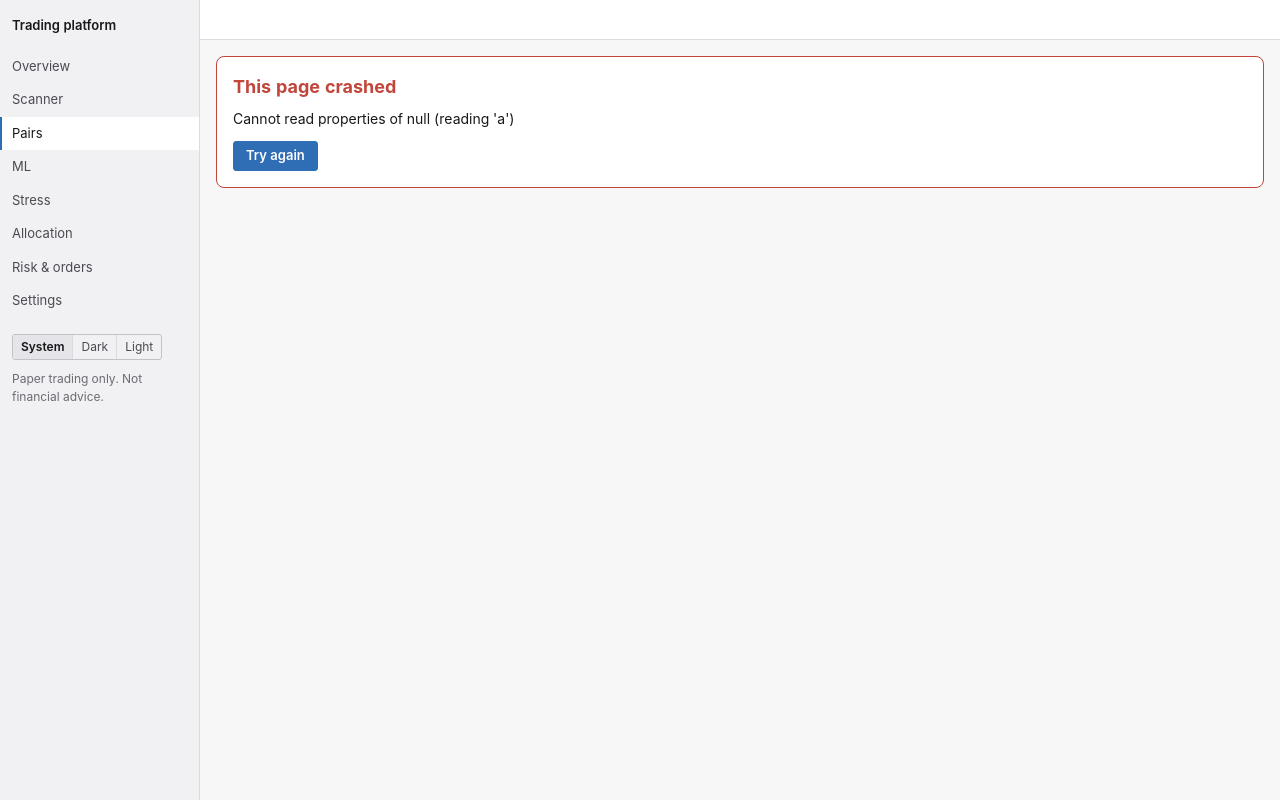
Scenario: ErrorBoundary › keeps the sidebar working when a page throws
Check: the heading "This page crashed" is shown, box [233,76,396,97]
Note: sidebar navigation still works
Click the link "Settings".
click(37, 300)  # box [12,292,62,308]
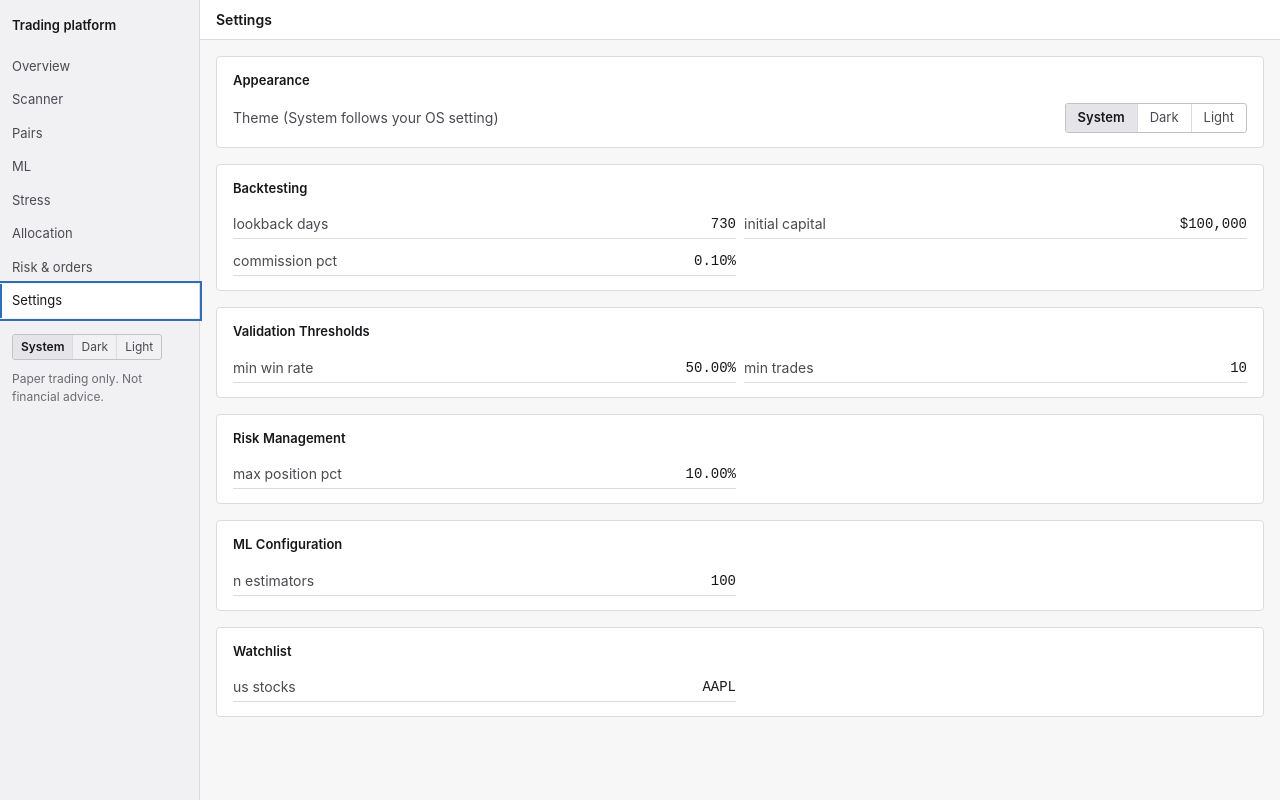
Check: the text "initial capital" is shown, box [744,214,826,234]
